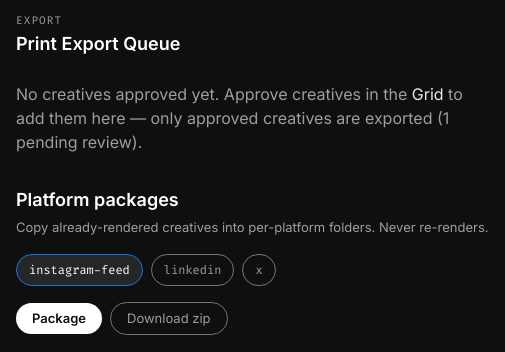
Test: ExportPage — platform packaging › shows Packaging… while the POST is in flight
The image size is (505, 352).
Click the button "Package": click(59, 318) [16,302,102,334]
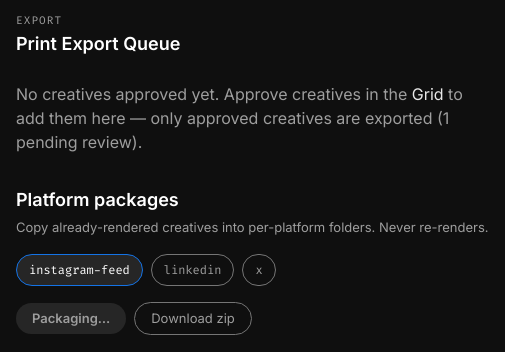
Expected: the button "Packaging…" is shown, [16,302,126,334]
